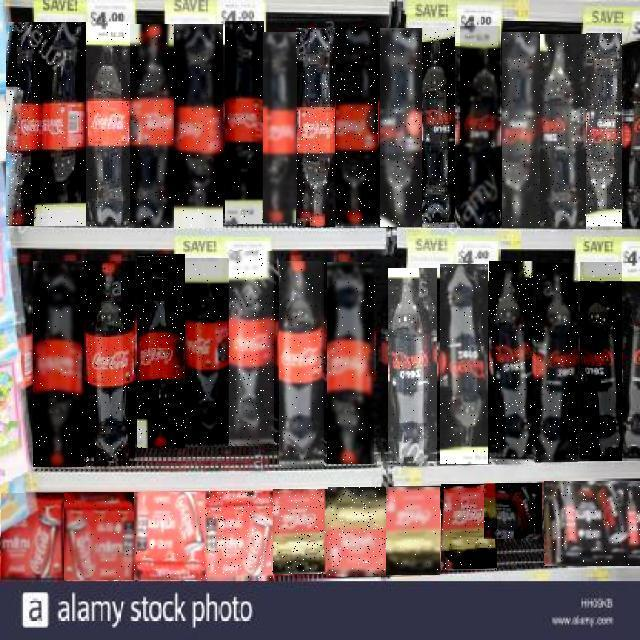Drinks: (82, 261, 135, 467), (33, 261, 84, 467), (174, 24, 223, 228), (388, 268, 437, 466), (328, 262, 376, 464), (441, 265, 489, 465), (280, 262, 326, 468), (137, 254, 185, 448), (490, 262, 536, 464), (86, 23, 131, 227), (130, 24, 175, 228), (42, 23, 86, 227), (540, 34, 586, 228), (230, 252, 276, 446), (185, 259, 230, 447), (336, 28, 378, 228), (380, 28, 422, 227), (536, 263, 578, 462), (580, 262, 622, 461), (544, 481, 640, 566), (460, 26, 500, 228), (225, 21, 264, 224), (296, 28, 335, 227), (502, 32, 540, 228), (6, 22, 42, 226), (586, 34, 622, 230), (422, 28, 455, 228), (263, 32, 297, 223), (134, 492, 206, 580), (64, 492, 134, 580), (205, 492, 273, 580), (1, 494, 64, 582), (328, 488, 386, 576), (441, 484, 497, 570), (274, 489, 330, 574), (386, 487, 440, 575), (484, 483, 542, 539)
